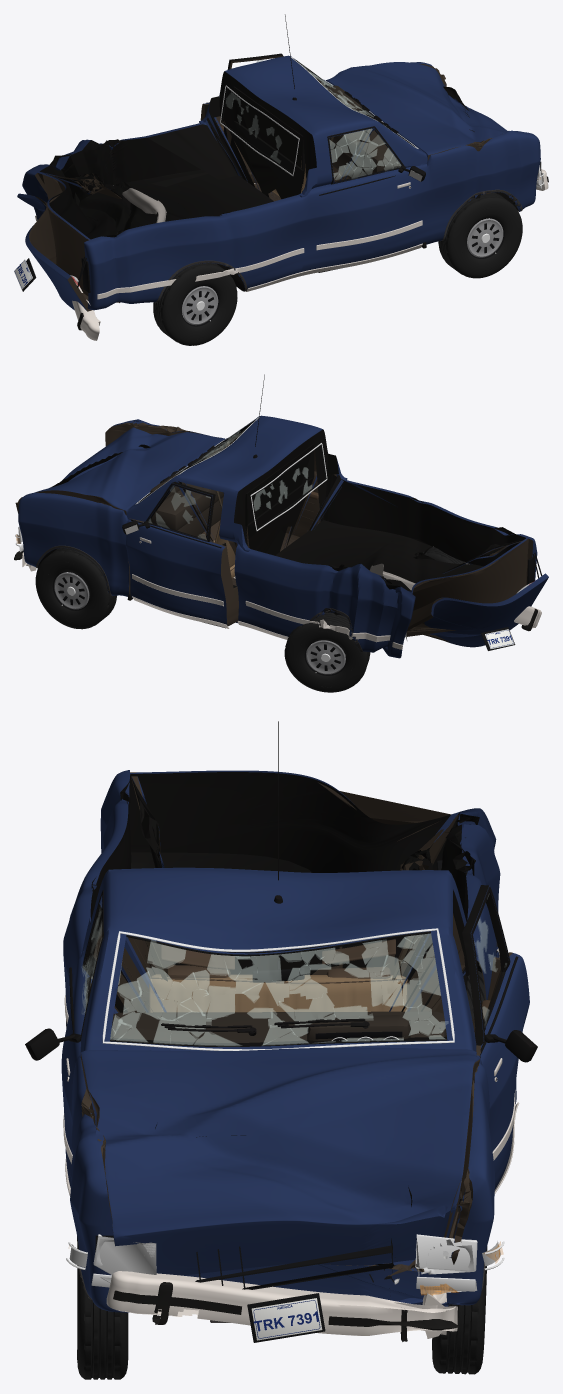
Rendered from pickup87_rear_corner_d2.glb.
3 renders of one model, top to bottom at view 1: azimuth 30°, elevation 25°; view 2: azimuth 150°, elevation 25°; view 3: azimuth 270°, elevation 25°, orthographic. The views are drawn at different scales.
Visible parts, largest first — view 1: Body, Hood, Wheel_FR_mesh, Wheel_RR_mesh, Door_FR, Interior, Tailgate, Trim, Glass_FR, Trim_FR, Glass, Bumper_R (+2 smaller); view 2: Body, Door_FL, Hood, Wheel_RL_mesh, Wheel_FL_mesh, Tailgate, Interior, Trim, Glass, Trim_FL, Ends, Bumper_R (+2 smaller); view 3: Body, Hood, Glass, Interior, Bumper_F, Ends, Door_FL, Wheel_FR_mesh, Wheel_FL_mesh, Trim_FL, Door_FR, Trim_FR (+1 smaller).
Part boxes in pixels (left/top/right/bottom): Body: left=22, top=55, right=540, bottom=310; Hood: left=326, top=62, right=507, bottom=193; Wheel_FR_mesh: left=438, top=192, right=522, bottom=278; Wheel_RR_mesh: left=153, top=263, right=237, bottom=345; Door_FR: left=312, top=129, right=425, bottom=269; Interior: left=272, top=85, right=398, bottom=196; Tailgate: left=17, top=193, right=91, bottom=311; Trim: left=35, top=14, right=522, bottom=302; Glass_FR: left=329, top=129, right=401, bottom=184; Trim_FR: left=312, top=126, right=425, bottom=273; Glass: left=220, top=57, right=418, bottom=175; Bumper_R: left=72, top=188, right=166, bottom=340; Body: left=15, top=415, right=537, bottom=658; Door_FL: left=126, top=481, right=238, bottom=626; Hood: left=35, top=427, right=224, bottom=515; Wheel_RL_mesh: left=284, top=612, right=370, bottom=692; Wheel_FL_mesh: left=35, top=548, right=116, bottom=629; Tailgate: left=407, top=573, right=548, bottom=647; Interior: left=150, top=447, right=235, bottom=578; Trim: left=36, top=374, right=469, bottom=652; Glass: left=135, top=417, right=327, bottom=531; Trim_FL: left=122, top=483, right=229, bottom=628; Ends: left=15, top=526, right=542, bottom=650; Bumper_R: left=369, top=563, right=541, bottom=631; Body: left=61, top=770, right=500, bottom=1312; Hood: left=80, top=1047, right=479, bottom=1279; Glass: left=102, top=928, right=454, bottom=1050; Interior: left=110, top=939, right=446, bottom=1042; Bumper_F: left=106, top=1271, right=458, bottom=1341; Ends: left=66, top=860, right=504, bottom=1342; Door_FL: left=462, top=885, right=529, bottom=1189; Wheel_FR_mesh: left=77, top=1236, right=128, bottom=1379; Wheel_FL_mesh: left=432, top=1207, right=487, bottom=1374; Trim_FL: left=471, top=886, right=537, bottom=1193; Door_FR: left=61, top=889, right=103, bottom=1185; Trim_FR: left=25, top=890, right=113, bottom=1196.
Bounding box in the file's own units: 4.98 × 2.61 × 2.36.
34 materials, 5 textured.
